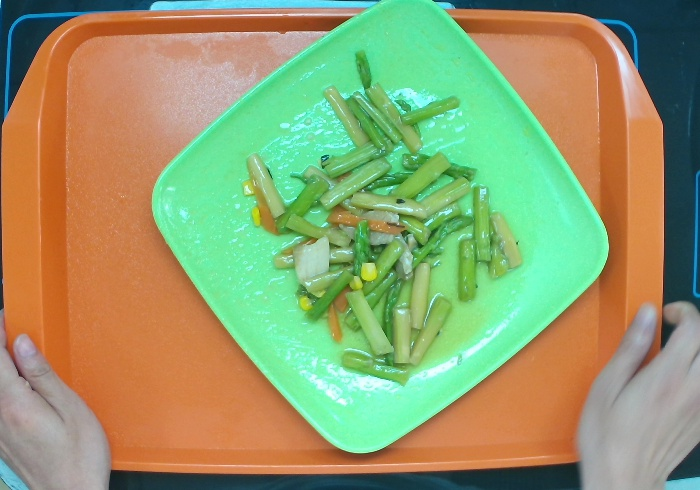ZNLD-Lv_Fang_Pan: (149, 1, 611, 455)
